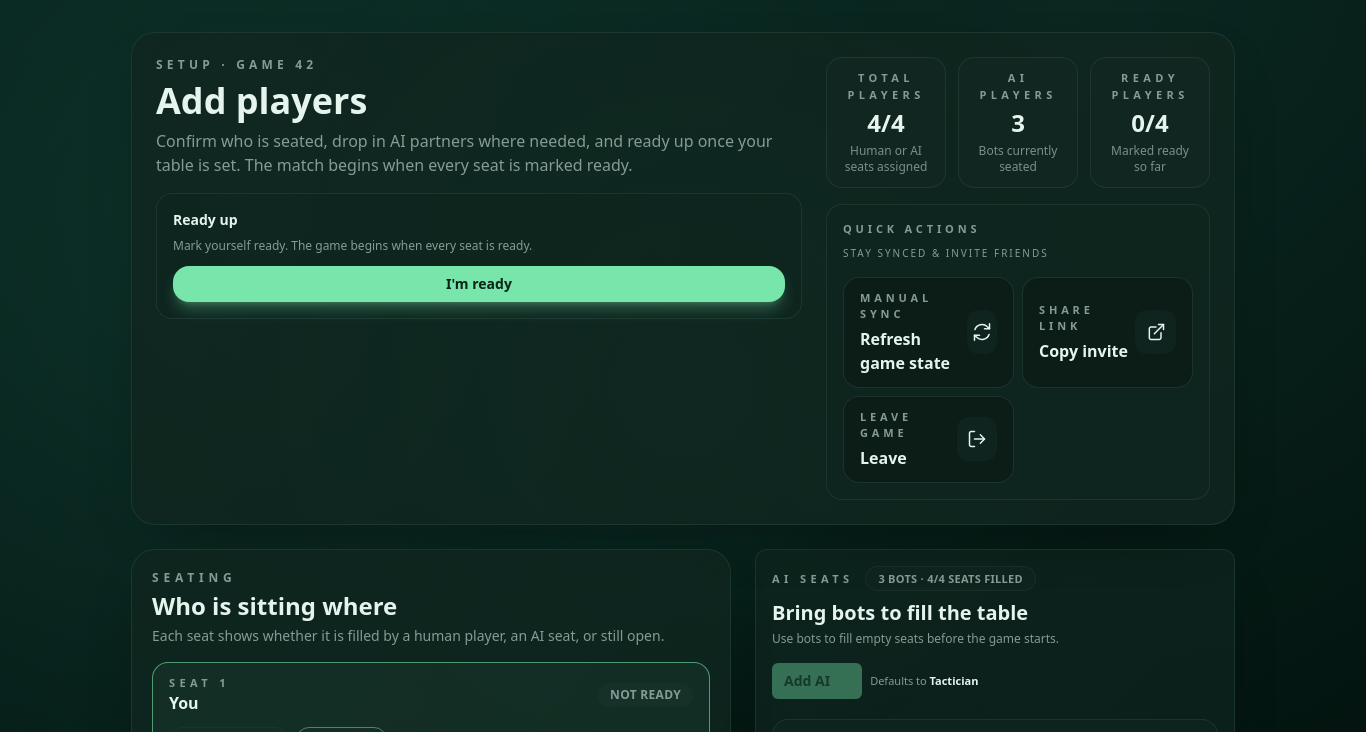
it: GameRoomClient › WebSocket integration › updates snapshot after action completes via WebSocket
This screenshot has width=1366, height=732.
Click the button with aria-label "Mark yourself as ready" at point(479, 284), box 173,266 -> 785,302
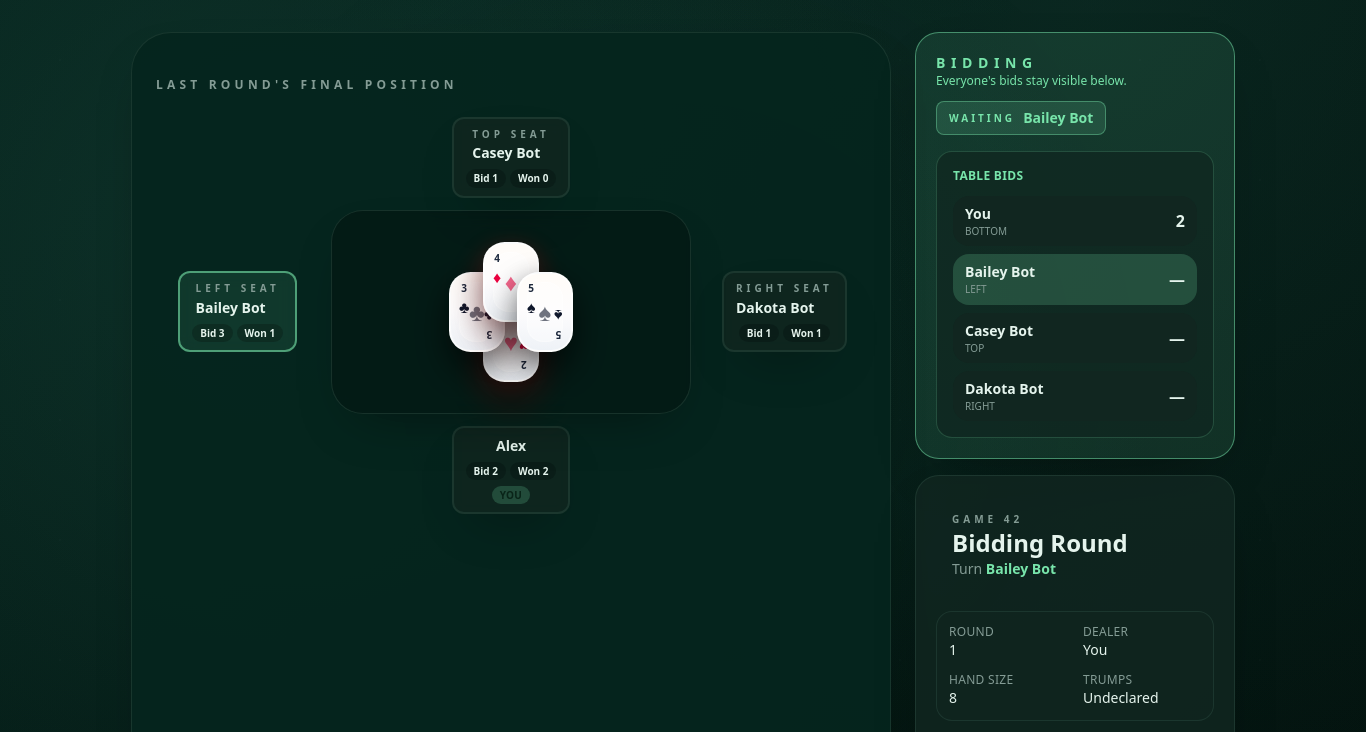
expect the heading "Bidding" is shown: met, box 936,53 -> 1038,72
